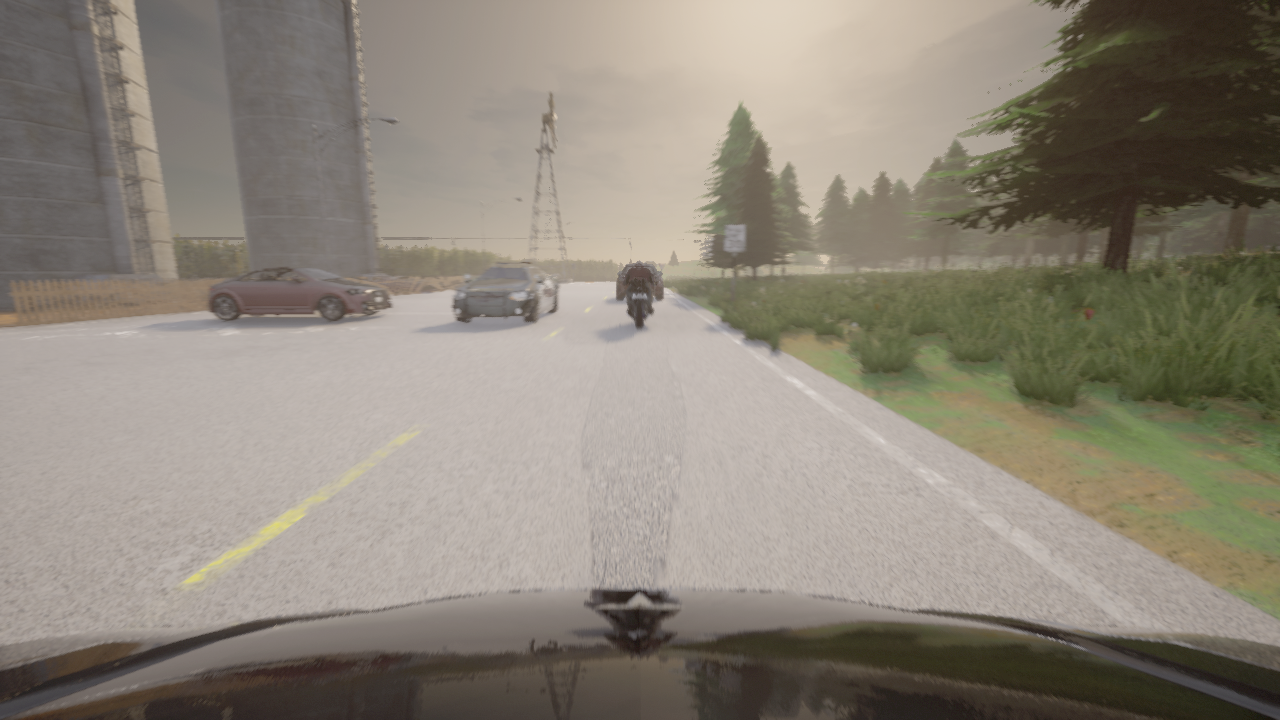cyclist: (0, 588, 1279, 719), (208, 267, 392, 320), (451, 261, 559, 323), (622, 274, 656, 328), (617, 263, 662, 299), (539, 268, 562, 282), (544, 272, 559, 283)
